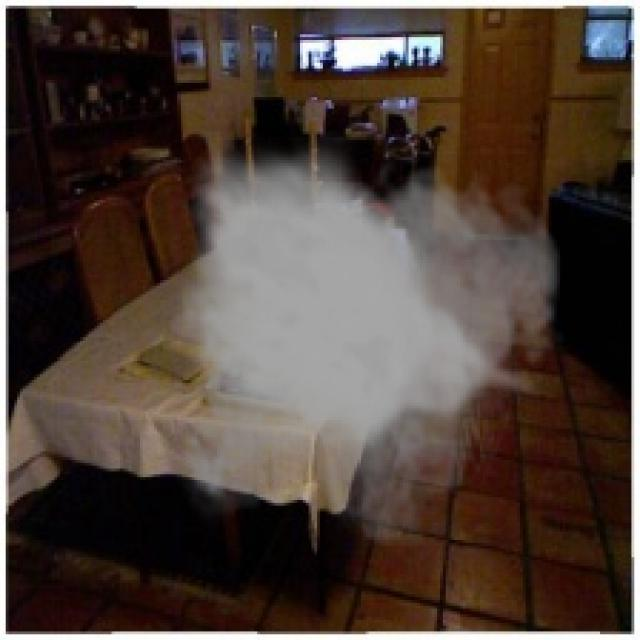smoke: (171, 131, 566, 546)
